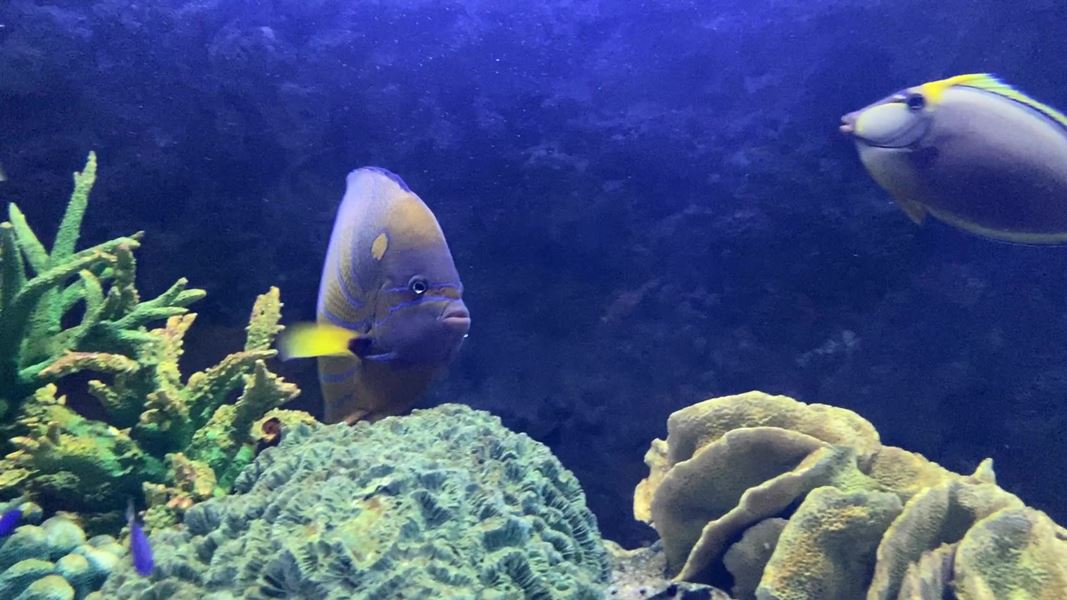Blue ring angelfish: (263, 160, 487, 441)
